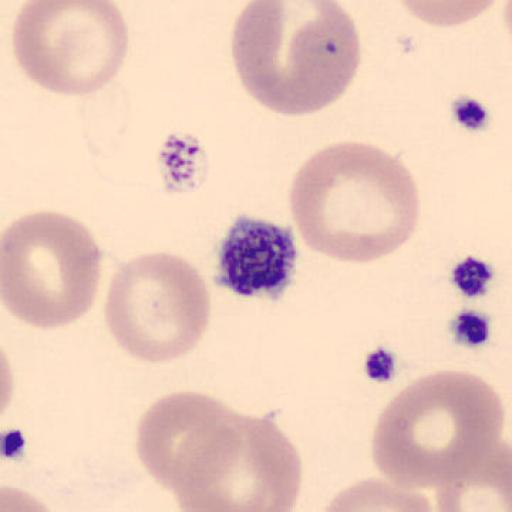Platelet: (210, 213, 302, 302), (154, 129, 213, 197), (445, 251, 498, 300)
RBC: (370, 367, 509, 496), (289, 139, 421, 264), (230, 0, 362, 117), (168, 408, 303, 512), (1, 208, 104, 332), (102, 250, 212, 364), (10, 0, 131, 97), (135, 389, 243, 497), (274, 4, 362, 116), (230, 1, 308, 116), (434, 454, 512, 512), (316, 475, 436, 512), (392, 0, 504, 28), (1, 481, 67, 512), (0, 340, 18, 433), (0, 343, 16, 423)
